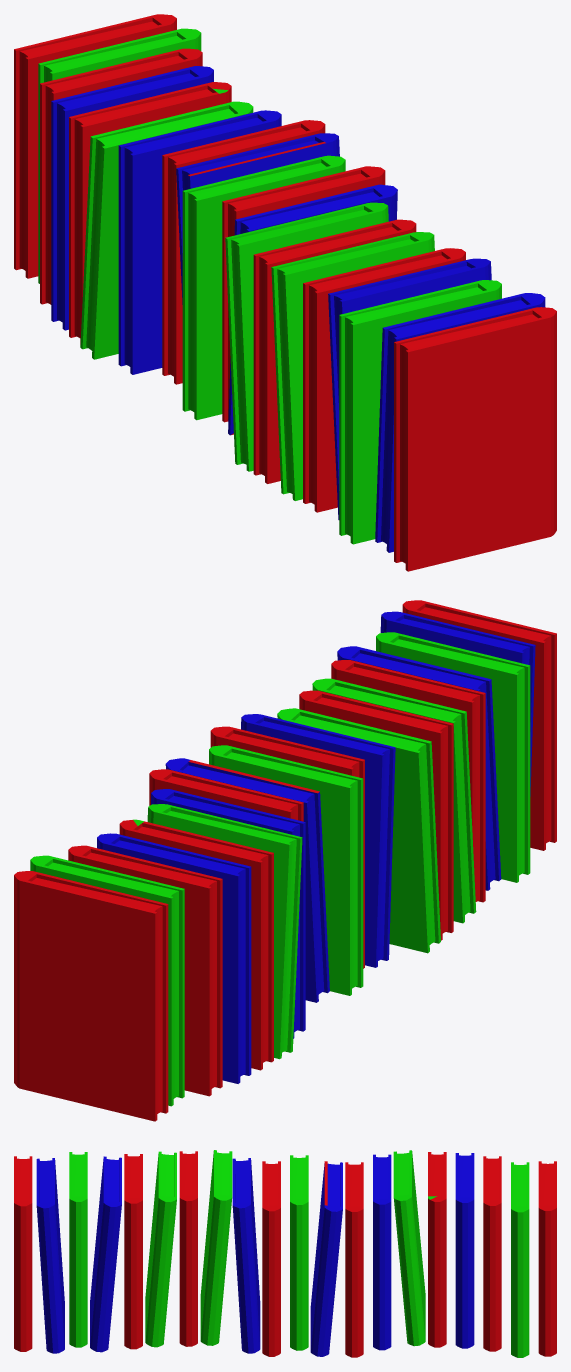
Rendered from Books.fbx.
The picture shows the model from 3 angles, top to bottom: view 1: azimuth 30°, elevation 25°; view 2: azimuth 150°, elevation 25°; view 3: azimuth 270°, elevation 25°; orthographic projection. The views are drawn at different scales.
Parts seen in each view (by area): view 1: Books; view 2: Books; view 3: Books.
Boxes of the visible parts, x1=… form: Books: x1=14, y1=14, x2=556, y2=571; Books: x1=14, y1=600, x2=556, y2=1121; Books: x1=14, y1=1150, x2=556, y2=1357.
Bounding box in the file's own units: 190 × 210 × 705.
